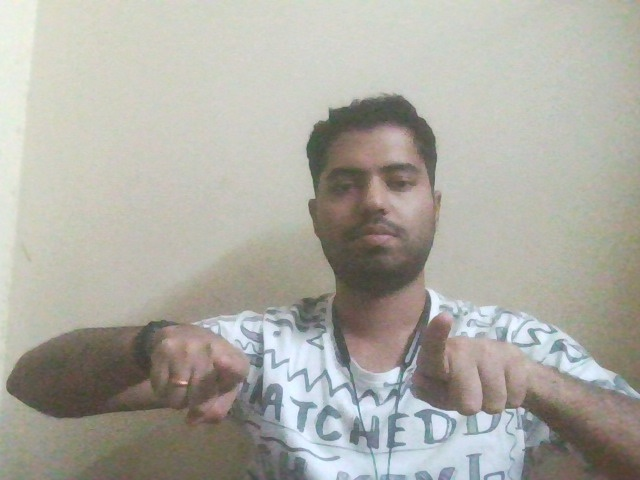Yes: (395, 280, 545, 423)
